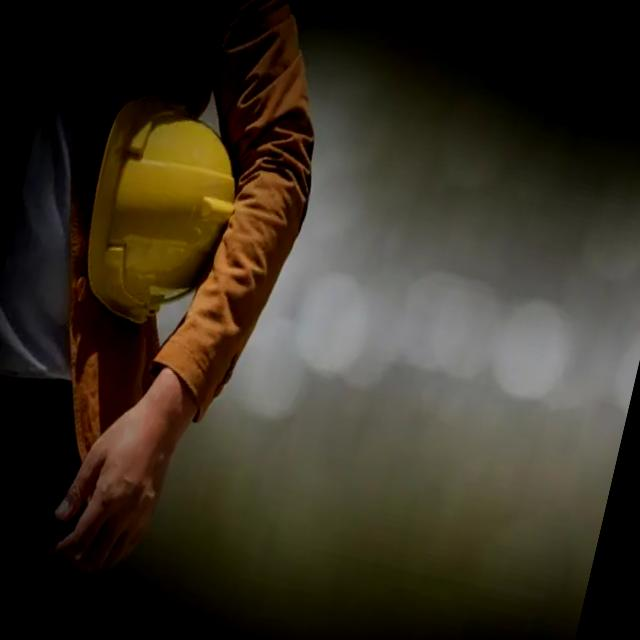helmet: (76, 98, 252, 320)
